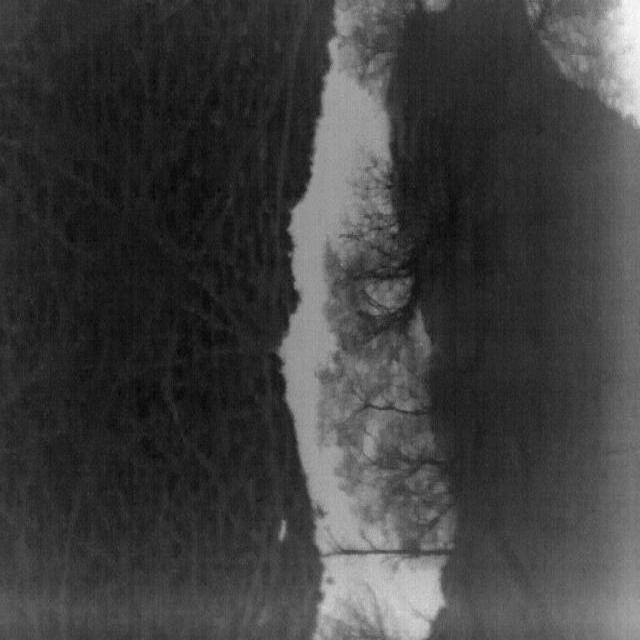deer: (278, 519, 287, 542)
